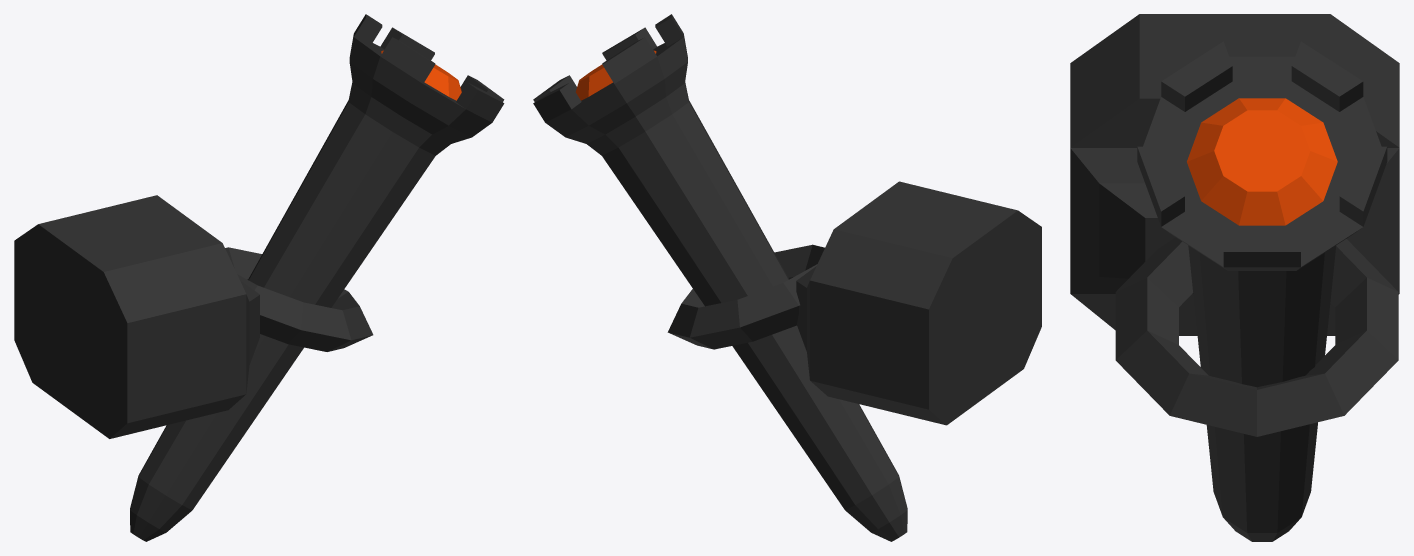
Rendered from torch.fbx.
3 renders of one model, left to right at view 1: azimuth 30°, elevation 25°; view 2: azimuth 150°, elevation 25°; view 3: azimuth 270°, elevation 25°, orthographic. The views are drawn at different scales.
Visible parts, largest first — view 1: Cube, Cylinder, Torus.001; view 2: Cube, Cylinder, Torus.001; view 3: Cylinder, Cube, Torus.001.
Boxes of the visible parts, bbox=[...] form: Cube: bbox=[14, 195, 259, 438]; Cylinder: bbox=[130, 14, 504, 541]; Torus.001: bbox=[225, 247, 373, 351]; Cube: bbox=[796, 181, 1041, 425]; Cylinder: bbox=[533, 14, 907, 541]; Torus.001: bbox=[667, 244, 824, 349]; Cylinder: bbox=[1137, 41, 1387, 541]; Cube: bbox=[1070, 14, 1399, 335]; Torus.001: bbox=[1115, 237, 1398, 436].
Bounding box in the file's own units: 439 × 445 × 200.
